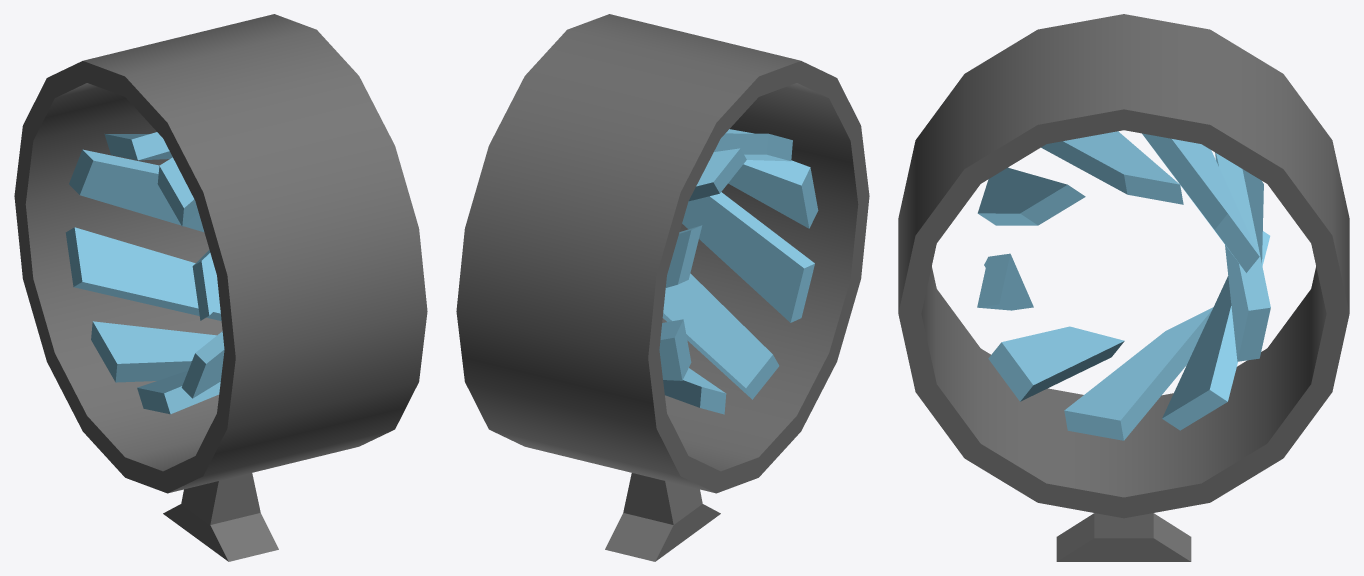
File: Windmill.fbx
3 renders of one model, left to right at view 1: azimuth 30°, elevation 25°; view 2: azimuth 150°, elevation 25°; view 3: azimuth 270°, elevation 25°, orthographic.
Visible parts, largest first — view 1: Frame, Wing, Support; view 2: Frame, Wing, Support; view 3: Frame, Wing, Support.
Part boxes in pixels (box(x1,y1,x2,y2)): Frame: box(14, 14, 427, 493); Wing: box(65, 132, 224, 414); Support: box(163, 473, 278, 561); Frame: box(456, 14, 869, 493); Wing: box(659, 129, 818, 414); Support: box(605, 473, 720, 561); Frame: box(898, 14, 1349, 518); Wing: box(977, 131, 1270, 440); Support: box(1056, 513, 1191, 561).
Size of the model in its own units: 100 by 239 by 200.
